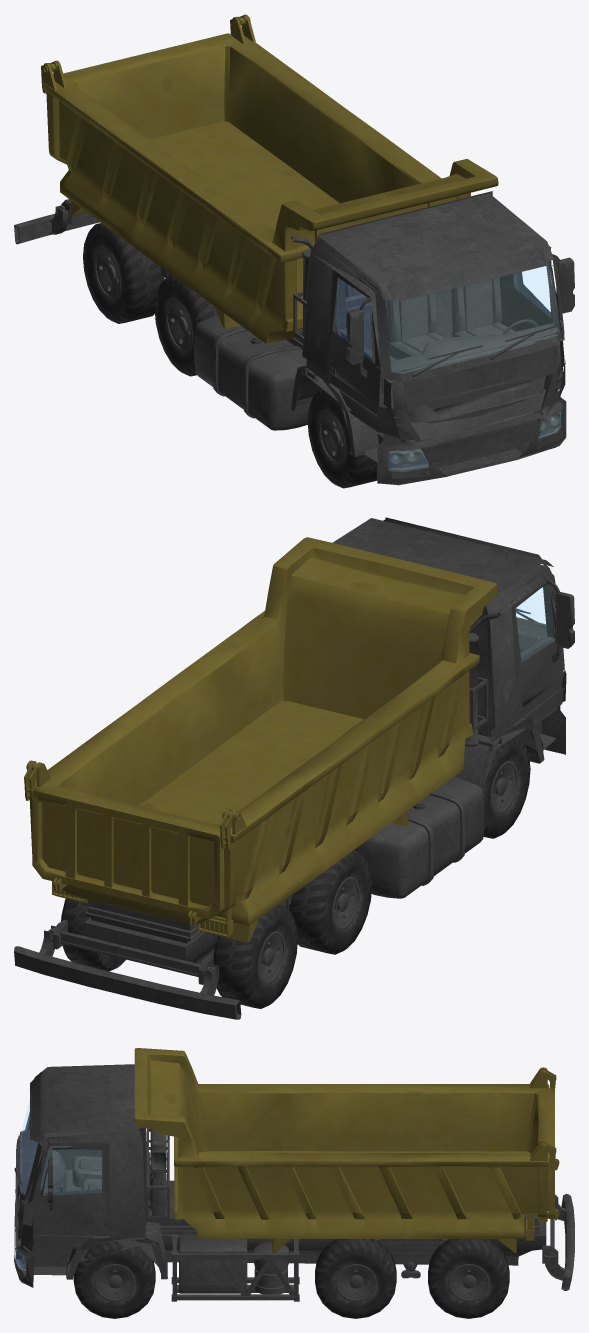
The model's file is trucks.glb.
The picture shows the model from 3 angles, top to bottom: view 1: azimuth 30°, elevation 25°; view 2: azimuth 150°, elevation 25°; view 3: azimuth 270°, elevation 25°; orthographic projection. The views are drawn at different scales.
Visible parts, largest first — view 1: dump_truck_01_M_dump_truck_A_01_0, dump_truck_01_M_dumb_truck_B_01.1_0, dump_truck_01_M_dump_truck_D_01_0, dump_truck_01_M_dump_truck_E_01_0, dump_truck_01_M_dumb_truck_B_01_0, dump_truck_01_old_lamp_glass_inst_0; view 2: dump_truck_01_M_dump_truck_A_01_0, dump_truck_01_M_dumb_truck_B_01_0, dump_truck_01_M_dumb_truck_B_01.1_0, dump_truck_01_M_dump_truck_E_01_0, dump_truck_01_M_dump_truck_D_01_0, dump_truck_01_old_lamp_glass_inst_0; view 3: dump_truck_01_M_dump_truck_A_01_0, dump_truck_01_M_dumb_truck_B_01.1_0, dump_truck_01_M_dump_truck_E_01_0, dump_truck_01_M_dumb_truck_B_01_0, dump_truck_01_M_dump_truck_D_01_0.
Boxes of the visible parts, x1=… form: dump_truck_01_M_dump_truck_A_01_0: x1=41, y1=14, x2=498, y2=343; dump_truck_01_M_dumb_truck_B_01.1_0: x1=291, y1=191, x2=566, y2=485; dump_truck_01_M_dump_truck_D_01_0: x1=291, y1=236, x2=574, y2=470; dump_truck_01_M_dump_truck_E_01_0: x1=83, y1=223, x2=377, y2=488; dump_truck_01_M_dumb_truck_B_01_0: x1=14, y1=199, x2=451, y2=441; dump_truck_01_old_lamp_glass_inst_0: x1=386, y1=266, x2=560, y2=469; dump_truck_01_M_dump_truck_A_01_0: x1=24, y1=537, x2=497, y2=942; dump_truck_01_M_dumb_truck_B_01_0: x1=14, y1=777, x2=484, y2=1019; dump_truck_01_M_dumb_truck_B_01.1_0: x1=332, y1=517, x2=566, y2=792; dump_truck_01_M_dump_truck_E_01_0: x1=61, y1=735, x2=530, y2=1008; dump_truck_01_M_dump_truck_D_01_0: x1=465, y1=580, x2=574, y2=746; dump_truck_01_old_lamp_glass_inst_0: x1=515, y1=587, x2=546, y2=627; dump_truck_01_M_dump_truck_A_01_0: x1=134, y1=1048, x2=559, y2=1252; dump_truck_01_M_dumb_truck_B_01.1_0: x1=14, y1=1064, x2=168, y2=1287; dump_truck_01_M_dump_truck_E_01_0: x1=73, y1=1239, x2=509, y2=1318; dump_truck_01_M_dumb_truck_B_01_0: x1=69, y1=1180, x2=574, y2=1301; dump_truck_01_M_dump_truck_D_01_0: x1=14, y1=1128, x2=169, y2=1272.
Bounding box in the file's own units: 2.93 × 3.1 × 7.85.
Materials: 6 (5 with a texture image).
